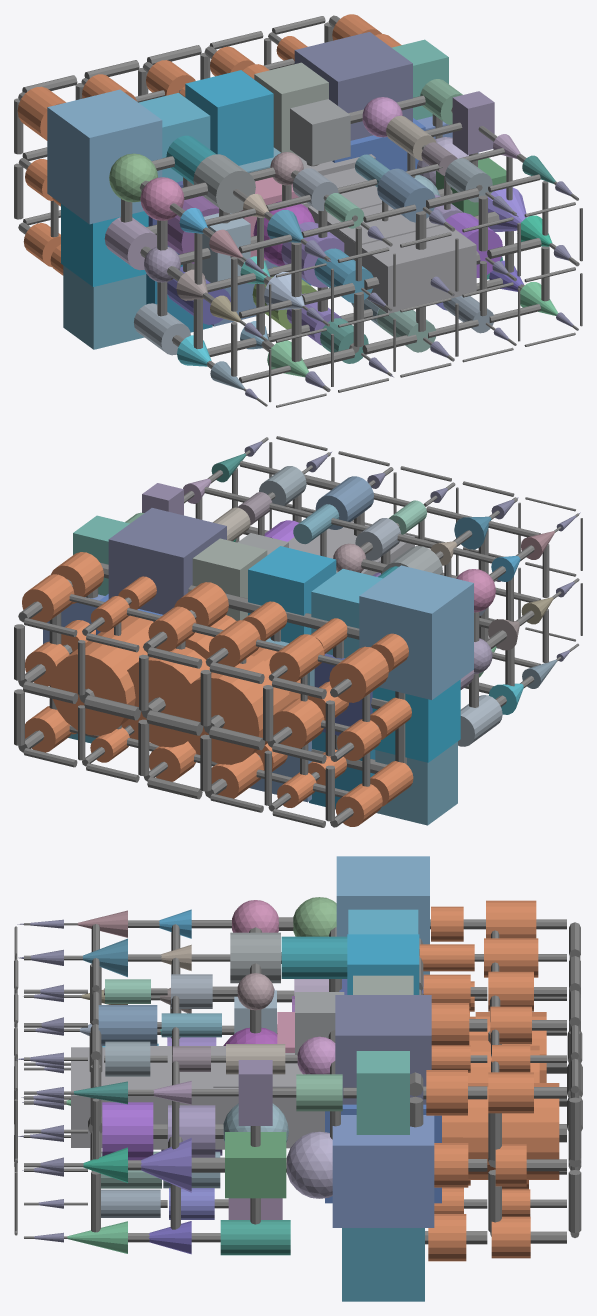
The model's file is fighter_spaceship.glb.
3 views of the same model, one above another, from view 1: azimuth 30°, elevation 25°; view 2: azimuth 150°, elevation 25°; view 3: azimuth 270°, elevation 25° (orthographic). The views are drawn at different scales.
Visible parts, largest first — view 1: world; view 2: world; view 3: world.
Part boxes in pixels (<box>): world: <box>14,14,582,407</box>; world: <box>14,436,582,827</box>; world: <box>14,856,582,1301</box>.
Size of the model in its own units: 9.33 by 5.15 by 10.69.
